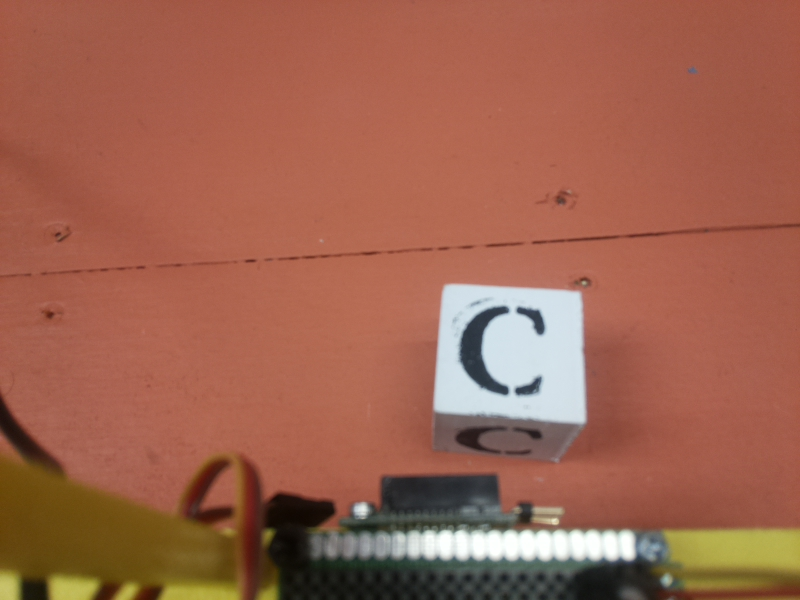blockC: (431, 285, 587, 474)
